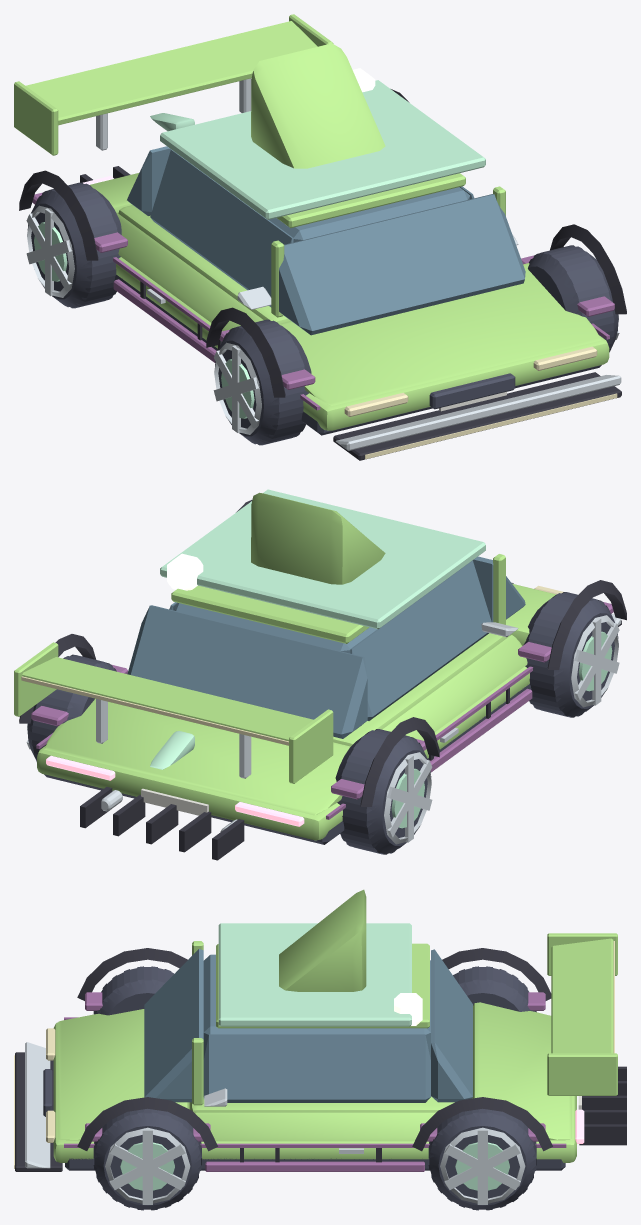
File: jester_jalopy.fbx
The picture shows the model from 3 angles, top to bottom: view 1: azimuth 30°, elevation 25°; view 2: azimuth 150°, elevation 25°; view 3: azimuth 270°, elevation 25°; orthographic projection. The views are drawn at different scales.
Visible parts, largest first — view 1: Body, Glass, Accent2, Trim, Metal, Wheel_FR, Wheel_RR, Accent3, Wheel_FL, Accent, Light, Trim2 (+1 smaller); view 2: Body, Glass, Accent2, Trim, Metal, Wheel_RR, Wheel_FR, Accent, Wheel_RL, Light2, Light, Metal2 (+3 smaller); view 3: Body, Glass, Accent2, Trim, Metal, Wheel_RL, Wheel_FL, Accent, Accent3, Wheel_RR, Wheel_FR, Trim2 (+3 smaller).
Part boxes in pixels (<box>): Body: <box>14,14,609,430</box>; Glass: <box>127,146,525,335</box>; Accent2: <box>150,80,485,219</box>; Trim: <box>19,89,626,460</box>; Metal: <box>26,78,619,434</box>; Wheel_FR: <box>215,319,311,445</box>; Wheel_RR: <box>27,182,121,308</box>; Accent3: <box>237,234,621,450</box>; Wheel_FL: <box>528,245,618,352</box>; Accent: <box>32,192,614,410</box>; Light: <box>344,346,617,459</box>; Trim2: <box>114,274,601,435</box>; Body: <box>14,492,556,840</box>; Glass: <box>127,556,525,738</box>; Accent2: <box>150,489,485,769</box>; Trim: <box>19,500,626,860</box>; Metal: <box>26,615,619,844</box>; Wheel_RR: <box>335,729,431,854</box>; Wheel_FR: <box>523,592,618,717</box>; Accent: <box>31,602,613,819</box>; Wheel_RL: <box>27,654,116,761</box>; Light2: <box>46,755,304,826</box>; Light: <box>21,585,563,745</box>; Metal2: <box>391,631,612,828</box>; Body: <box>53,889,617,1162</box>; Glass: <box>144,949,472,1102</box>; Accent2: <box>203,923,411,1098</box>; Trim: <box>15,948,626,1171</box>; Metal: <box>105,1127,525,1204</box>; Wheel_RL: <box>428,1108,536,1210</box>; Wheel_FL: <box>93,1108,201,1210</box>; Accent: <box>64,992,566,1171</box>; Accent3: <box>25,1042,227,1168</box>; Wheel_RR: <box>453,966,536,1012</box>; Wheel_FR: <box>93,966,174,1015</box>; Trim2: <box>43,1069,565,1170</box>.
Bounding box in the file's own units: 3.3 × 2.25 × 5.39.
